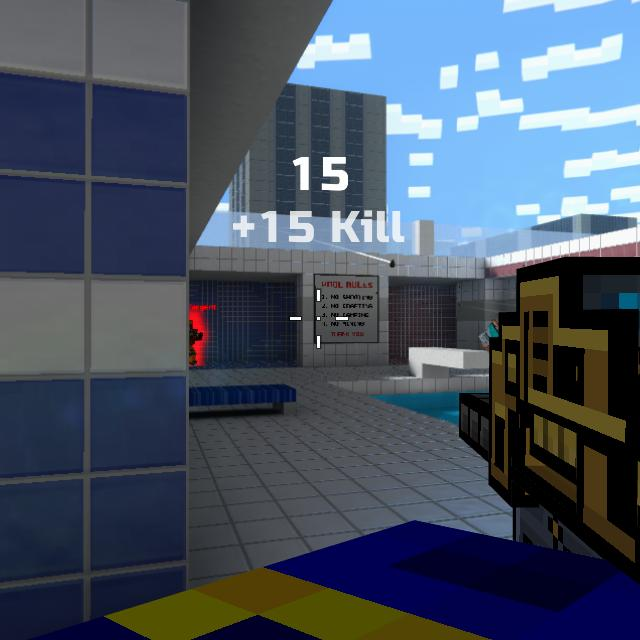Enemy: (188, 320, 202, 367)
